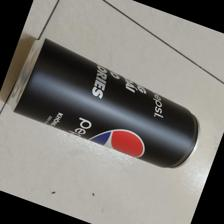Pepsi: (6, 38, 202, 169)
